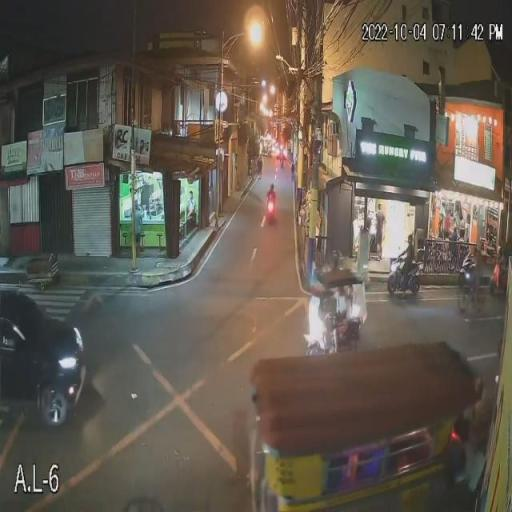helmet: (406, 232, 418, 247), (269, 182, 275, 190)
motorcycle: (383, 261, 428, 301), (266, 200, 278, 226)
rider: (398, 231, 418, 278), (267, 180, 277, 208)
